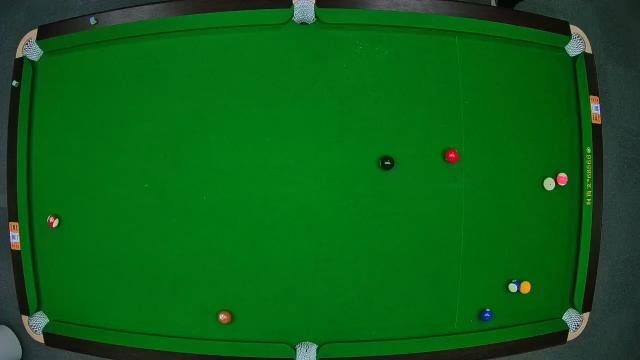bag1: (20, 40, 42, 62)
bag2: (292, 2, 316, 26)
bag3: (566, 36, 586, 58)
bag4: (29, 311, 49, 333)
bag5: (295, 340, 319, 360)
bag6: (562, 308, 582, 330)
ball0: (543, 178, 557, 190)
ball1: (520, 278, 534, 294)
ball10: (505, 278, 521, 294)
ball11: (46, 213, 62, 229)
ball12: (556, 172, 568, 186)
ball2: (480, 308, 494, 322)
ball3: (444, 148, 458, 162)
ball7: (217, 309, 233, 325)
ball8: (378, 156, 394, 170)
